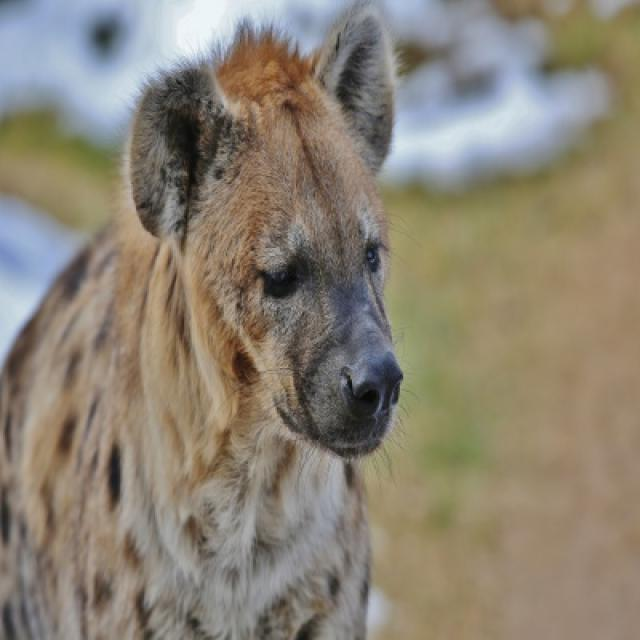hyena: (0, 6, 405, 638)
